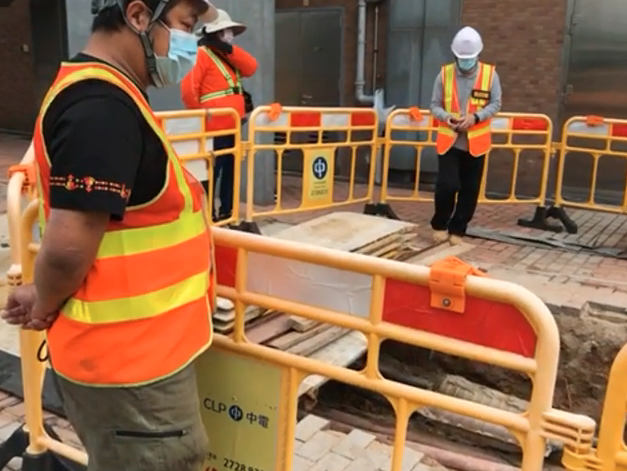Hard Hat: (201, 15, 244, 47), (452, 28, 483, 72)
Person: (30, 3, 216, 471), (431, 28, 501, 248), (197, 12, 253, 224)
Vest: (34, 38, 198, 384), (436, 58, 493, 156), (200, 35, 248, 136)
